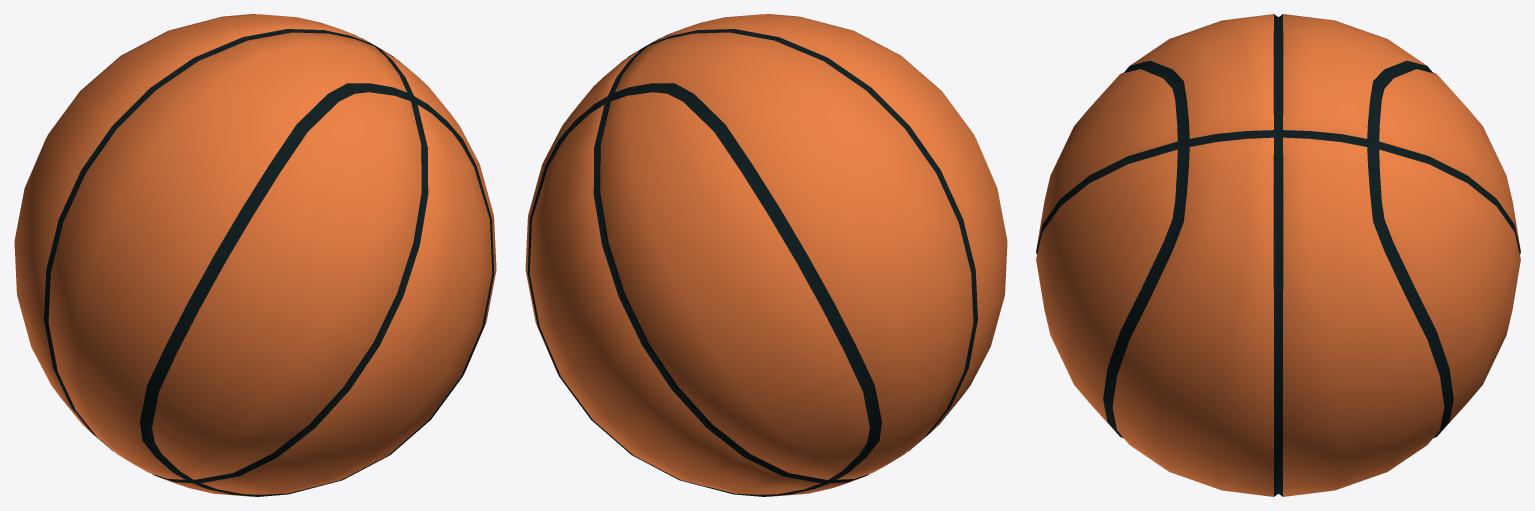
File: BALON.gltf
3 renders of one model, left to right at view 1: azimuth 30°, elevation 25°; view 2: azimuth 150°, elevation 25°; view 3: azimuth 270°, elevation 25°, orthographic.
Visible parts, largest first — view 1: baloncesto; view 2: baloncesto; view 3: baloncesto.
Boxes of the visible parts, x1,y1,x2,y2 form: baloncesto: [14, 14, 496, 496]; baloncesto: [525, 14, 1007, 496]; baloncesto: [1036, 14, 1520, 496].
Bounding box in the file's own units: 3.56 × 3.56 × 3.57.
